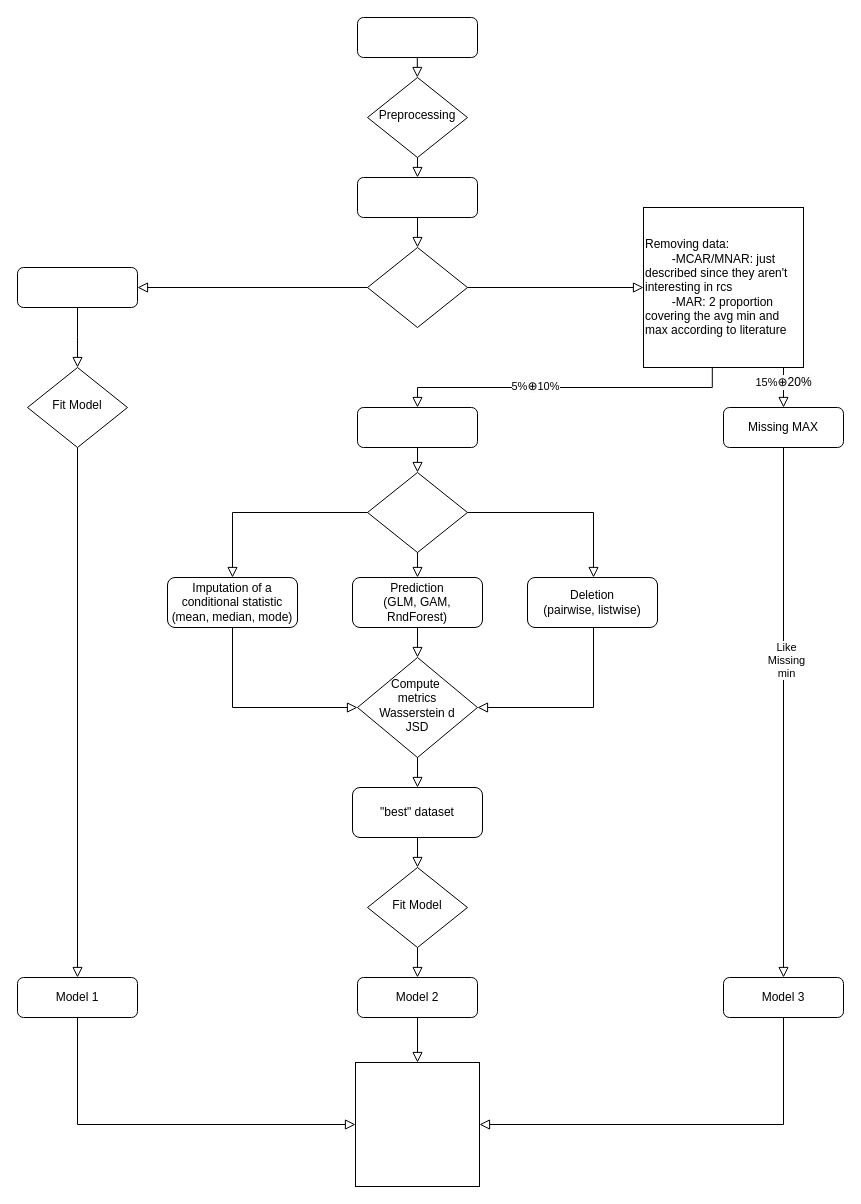
The diagram is 861 pixels wide and 1204 high, and some of its shapes have lost their labels. Each missing label, with the box of its shape:
Analysis: (366, 472, 468, 552)
Comparison between the predictions Final Discussion: (354, 1062, 480, 1186)
Data (original): (356, 16, 478, 58)
Data Cleaned: (356, 176, 478, 218)
Missing min: (356, 406, 478, 448)
Split Train/Test: (366, 246, 468, 328)
Train set (complete): (16, 266, 138, 308)
